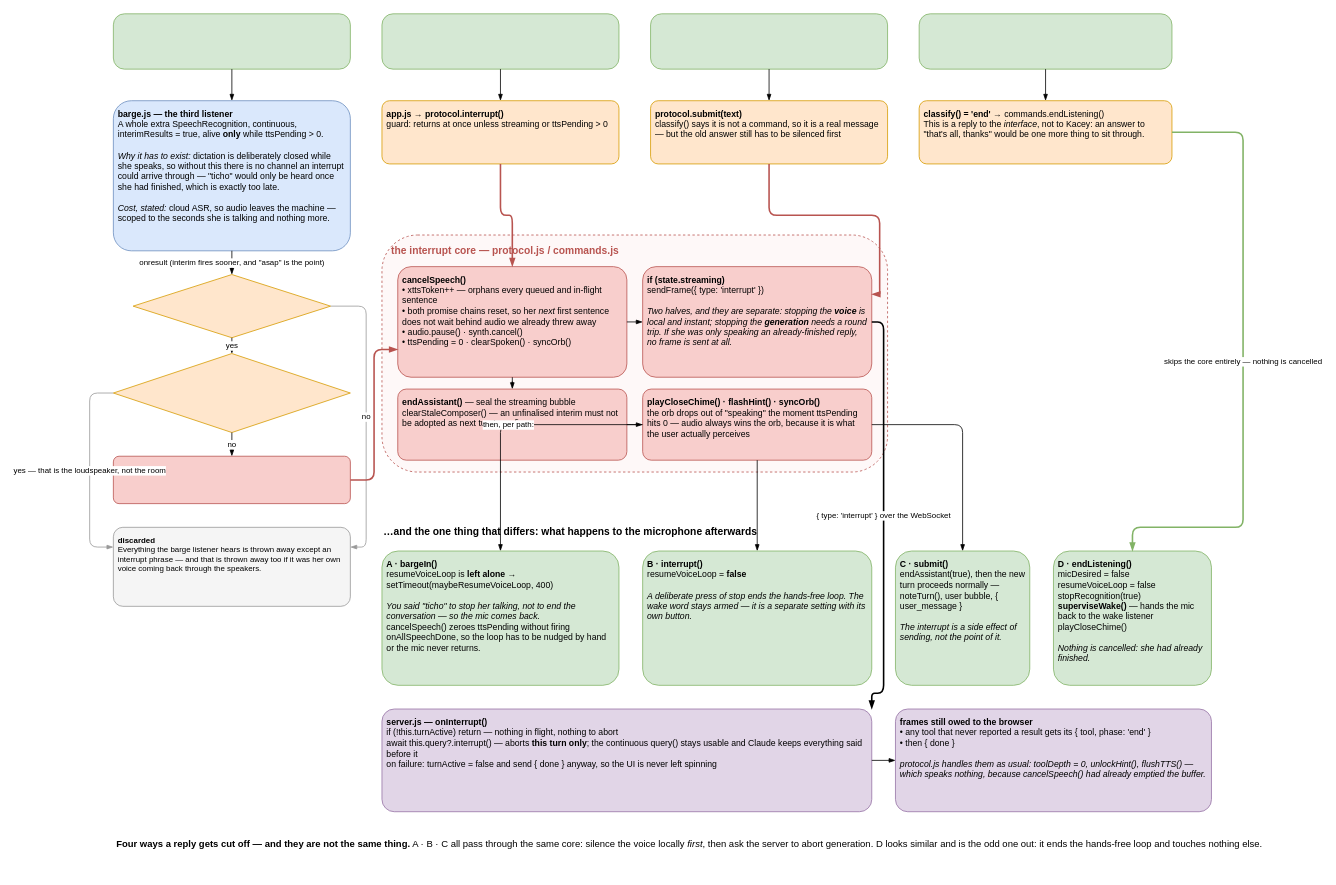
Image size: 1336x885. Some labels were removed from this diagram. The shapes that lost their labels are listed below. From the top down, each one's centre as x and y in pixels, then its label:
[231,41]: A · "ticho" / "dost" said out loud while she is still talking
[500,41]: B · the stop button click ⏹ , or press Esc
[769,41]: C · a new message mid-reply typed, or dictated over the top of her
[1045,41]: D · "to je vše, díky" said after a reply — not an interrupt at all
[231,306]: classify(heard) == 'interrupt' ?
[231,393]: spokenGuard() does the reply she is speaking itself contain the word?
[231,479]: stopBarge(true) → bargeIn() the room said it, so act on it
